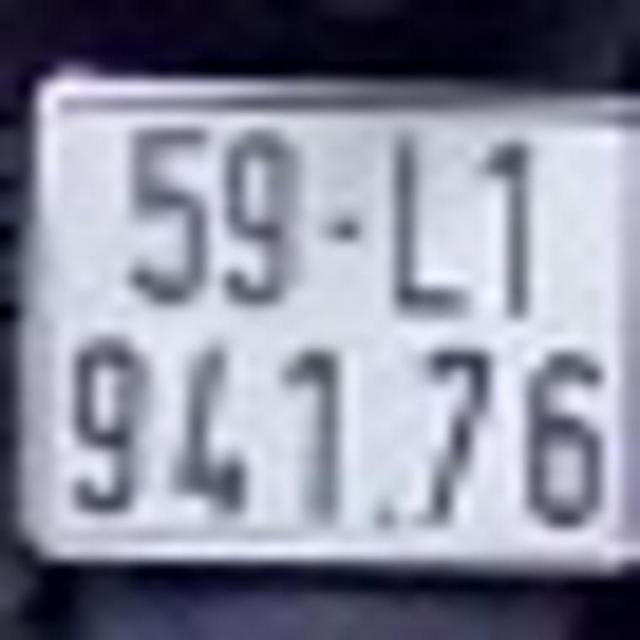1: (282, 350, 339, 532), (478, 138, 532, 325)
4: (172, 346, 247, 514)
5: (128, 125, 209, 302)
6: (526, 347, 606, 528)
7: (425, 347, 490, 522)
9: (222, 127, 300, 308), (72, 338, 140, 513)
L: (388, 132, 472, 319)
